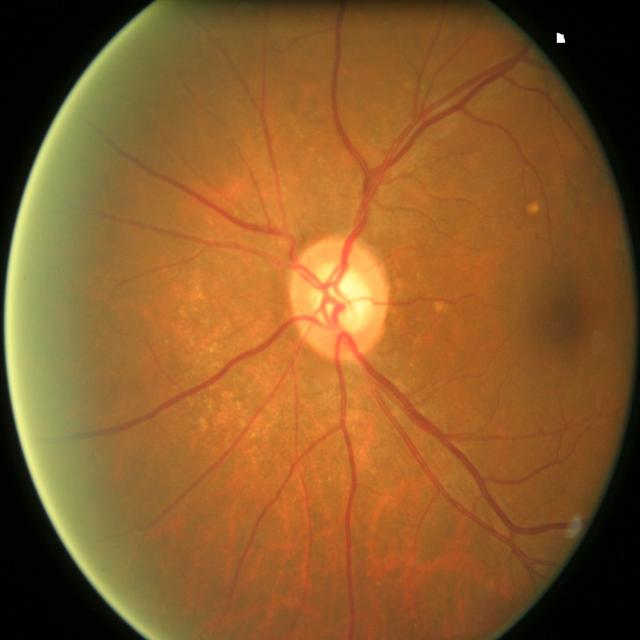OC: (311, 261, 372, 334)
OD: (288, 237, 391, 359)
